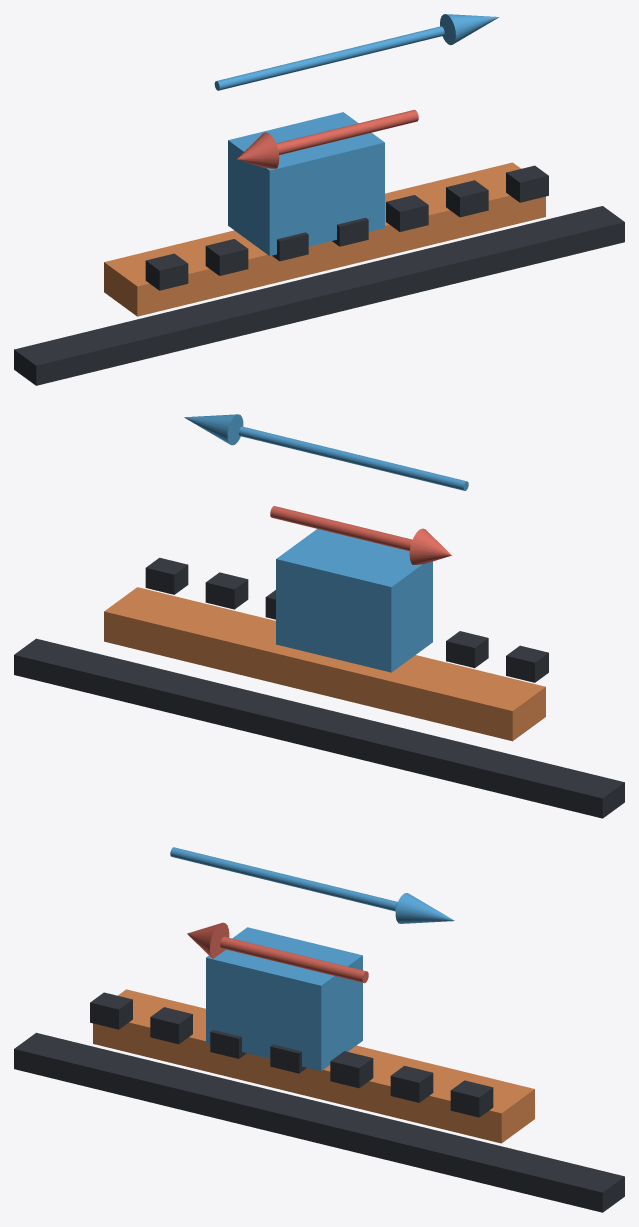
Rendered from physics-p1-friction.glb.
The picture shows the model from 3 angles, top to bottom: view 1: azimuth 30°, elevation 25°; view 2: azimuth 150°, elevation 25°; view 3: azimuth 330°, elevation 25°; orthographic projection.
Parts seen in each view (by area): view 1: mechanics-bench-reference-base, rough-surface-track-with-grip, sliding-box-being-slowed, motion-arrow-forward-shaft, friction-arrow-opposes-motion-shaft, surface-bump-friction-1, surface-bump-friction-0, surface-bump-friction-5, surface-bump-friction-4, surface-bump-friction-6, motion-arrow-forward-head, friction-arrow-opposes-motion-head (+2 smaller); view 2: mechanics-bench-reference-base, rough-surface-track-with-grip, sliding-box-being-slowed, motion-arrow-forward-shaft, friction-arrow-opposes-motion-shaft, surface-bump-friction-5, surface-bump-friction-6, surface-bump-friction-1, surface-bump-friction-0, motion-arrow-forward-head, friction-arrow-opposes-motion-head; view 3: mechanics-bench-reference-base, rough-surface-track-with-grip, sliding-box-being-slowed, motion-arrow-forward-shaft, friction-arrow-opposes-motion-shaft, surface-bump-friction-4, surface-bump-friction-6, surface-bump-friction-5, surface-bump-friction-0, surface-bump-friction-1, motion-arrow-forward-head, friction-arrow-opposes-motion-head (+2 smaller).
Boxes of the visible parts, box(x1,y1,x2,y2) form: mechanics-bench-reference-base: box(14, 206, 624, 385); rough-surface-track-with-grip: box(104, 162, 545, 316); sliding-box-being-slowed: box(228, 112, 384, 255); motion-arrow-forward-shaft: box(214, 26, 444, 90); friction-arrow-opposes-motion-shaft: box(276, 109, 418, 155); surface-bump-friction-1: box(205, 239, 248, 275); surface-bump-friction-0: box(145, 253, 188, 290); surface-bump-friction-5: box(446, 180, 488, 217); surface-bump-friction-4: box(386, 195, 428, 231); surface-bump-friction-6: box(506, 165, 548, 202); motion-arrow-forward-head: box(440, 14, 499, 45); friction-arrow-opposes-motion-head: box(237, 132, 279, 168); mechanics-bench-reference-base: box(14, 638, 624, 818); rough-surface-track-with-grip: box(104, 587, 545, 741); sliding-box-being-slowed: box(276, 529, 432, 672); motion-arrow-forward-shaft: box(238, 426, 468, 490); friction-arrow-opposes-motion-shaft: box(270, 506, 412, 551); surface-bump-friction-5: box(205, 572, 248, 609); surface-bump-friction-6: box(145, 557, 188, 594); surface-bump-friction-1: box(446, 631, 488, 668); surface-bump-friction-0: box(506, 645, 548, 682); motion-arrow-forward-head: box(184, 414, 243, 445); friction-arrow-opposes-motion-head: box(409, 528, 451, 564); mechanics-bench-reference-base: box(14, 1032, 624, 1212); rough-surface-track-with-grip: box(93, 989, 534, 1143); sliding-box-being-slowed: box(206, 927, 362, 1070); motion-arrow-forward-shaft: box(170, 847, 397, 911); friction-arrow-opposes-motion-shaft: box(220, 936, 368, 983); surface-bump-friction-4: box(330, 1051, 373, 1088); surface-bump-friction-6: box(450, 1080, 493, 1117); surface-bump-friction-5: box(390, 1065, 433, 1102); surface-bump-friction-0: box(90, 992, 132, 1029); surface-bump-friction-1: box(150, 1007, 192, 1044); motion-arrow-forward-head: box(395, 893, 454, 923); friction-arrow-opposes-motion-head: box(187, 922, 229, 958).
Size of what is drawn, in the model's own units: 2.45 by 1.12 by 0.3304.
